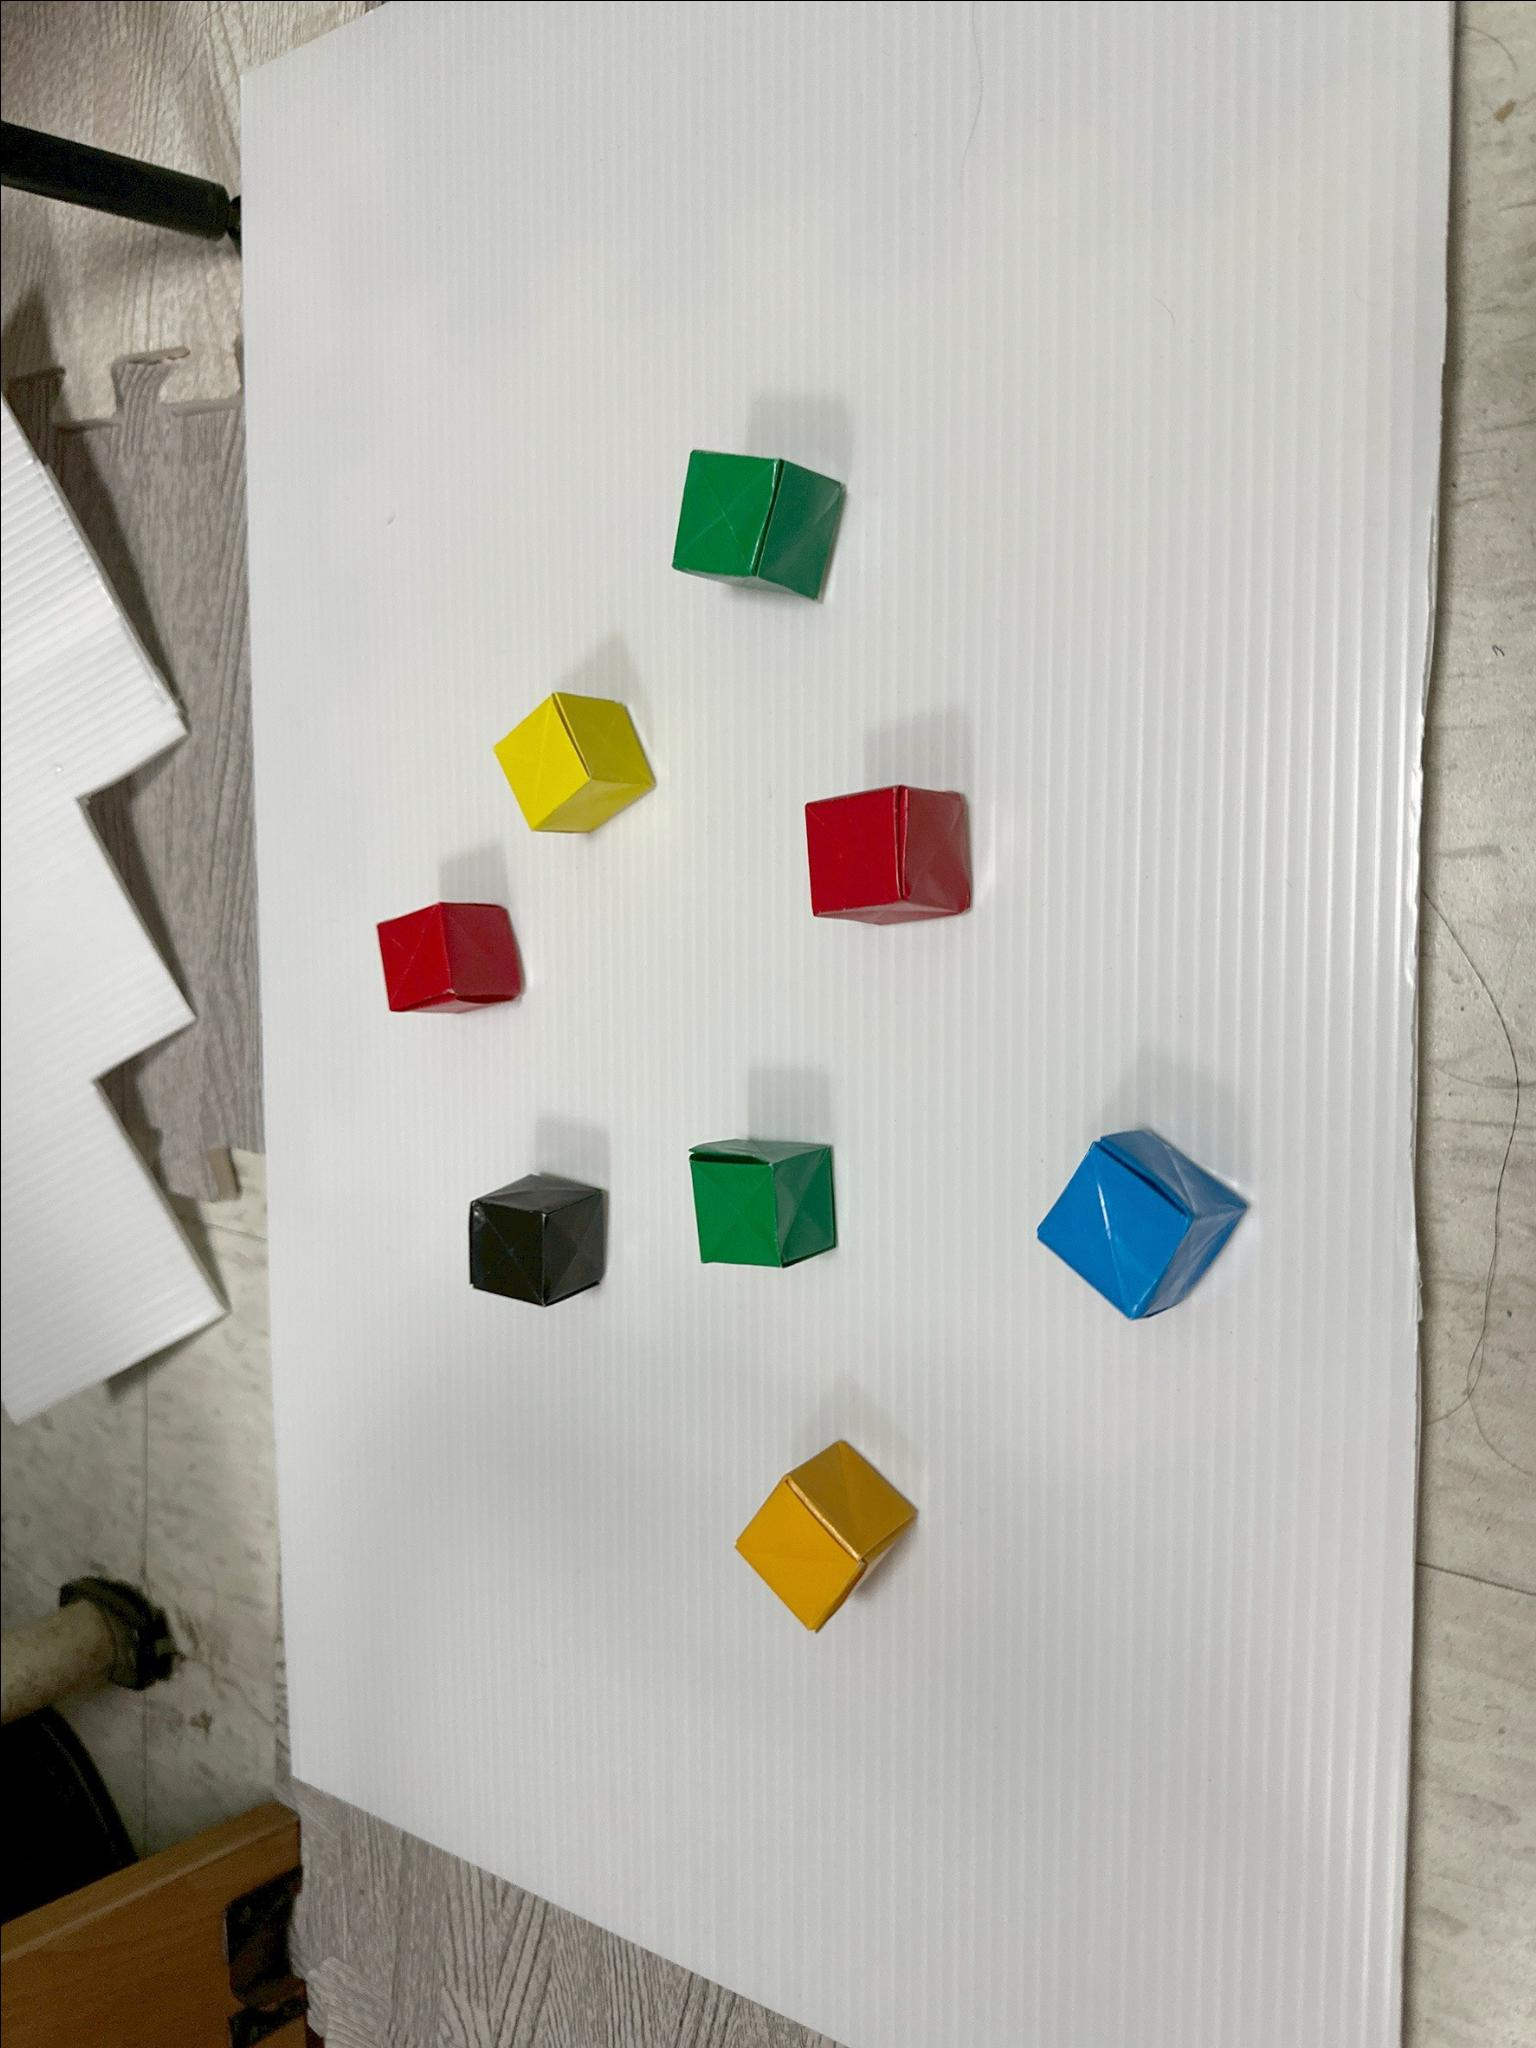cube: (1037, 1130, 1247, 1319), (736, 1442, 915, 1630), (673, 450, 844, 598), (805, 785, 970, 924), (494, 692, 652, 830), (689, 1138, 836, 1266), (468, 1176, 605, 1306), (376, 901, 523, 1013)
